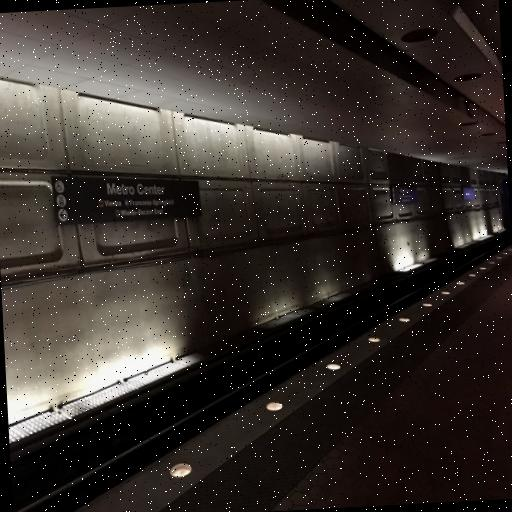platform_edge: (8, 277, 481, 512)
